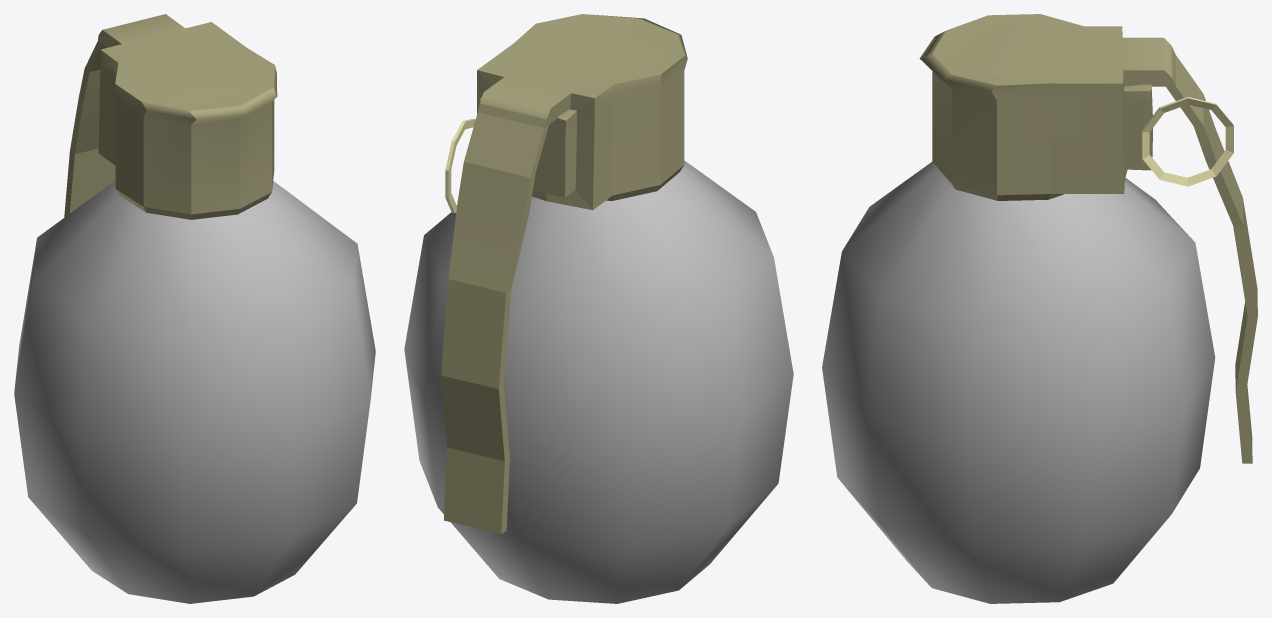
File: Grenade.fbx
The picture shows the model from 3 angles, left to right: view 1: azimuth 30°, elevation 25°; view 2: azimuth 150°, elevation 25°; view 3: azimuth 270°, elevation 25°; orthographic projection. The views are drawn at different scales.
Visible parts, largest first — view 1: pSphere1; view 2: pSphere1, pTorus2; view 3: pSphere1, pTorus2.
Part boxes in pixels (bbox=[...]): pSphere1: bbox=[14, 14, 375, 603]; pSphere1: bbox=[404, 14, 793, 603]; pTorus2: bbox=[445, 118, 475, 212]; pSphere1: bbox=[822, 14, 1257, 603]; pTorus2: bbox=[1142, 97, 1233, 186].
Bounding box in the file's own units: 1.64 × 2.41 × 1.87.
